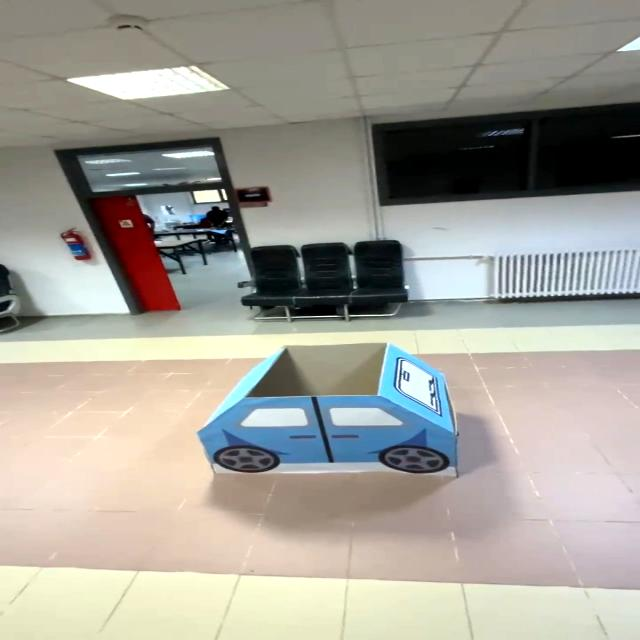blue_car: (185, 324, 486, 512)
